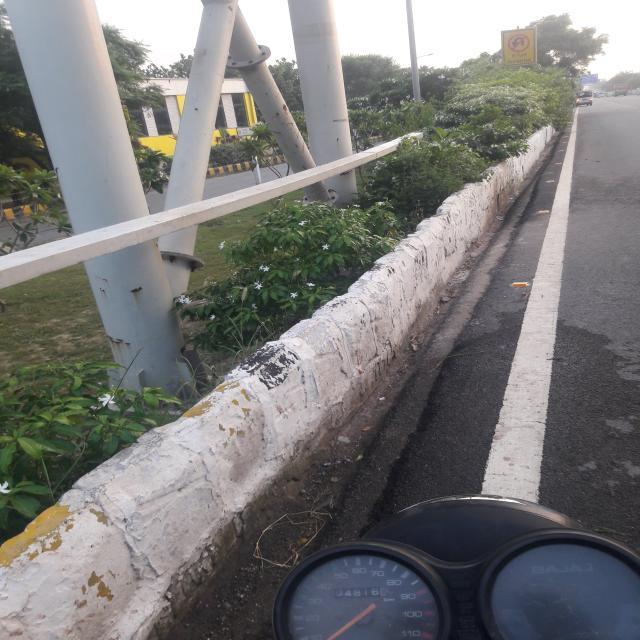u turn prohibited: (503, 29, 535, 53)
